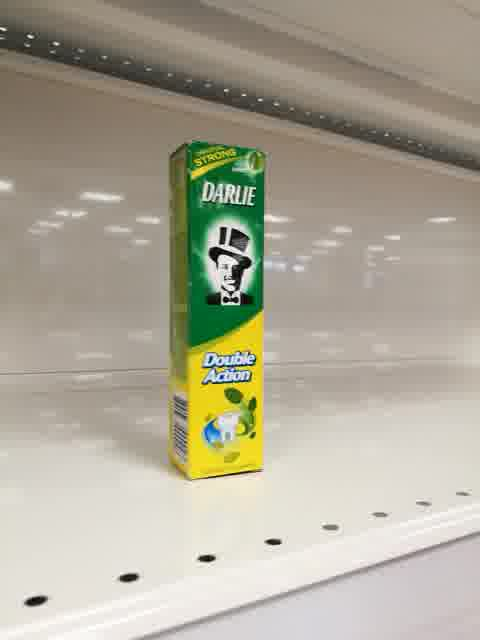toothpaste: (169, 139, 263, 482)
